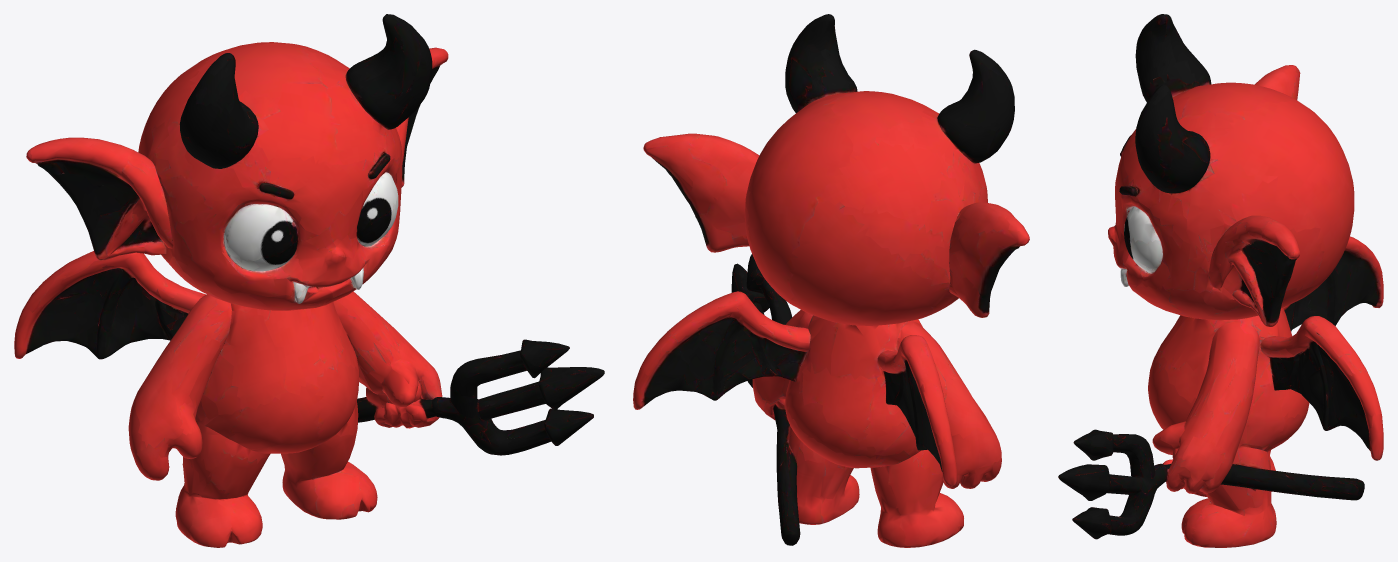
The model's file is upm_mu5yhj8zpj.glb.
The picture shows the model from 3 angles, left to right: view 1: azimuth 30°, elevation 25°; view 2: azimuth 150°, elevation 25°; view 3: azimuth 270°, elevation 25°; orthographic projection. The views are drawn at different scales.
Size of the model in its own units: 1.77 by 1.9 by 1.22.
Materials: 1 (1 with a texture image).
